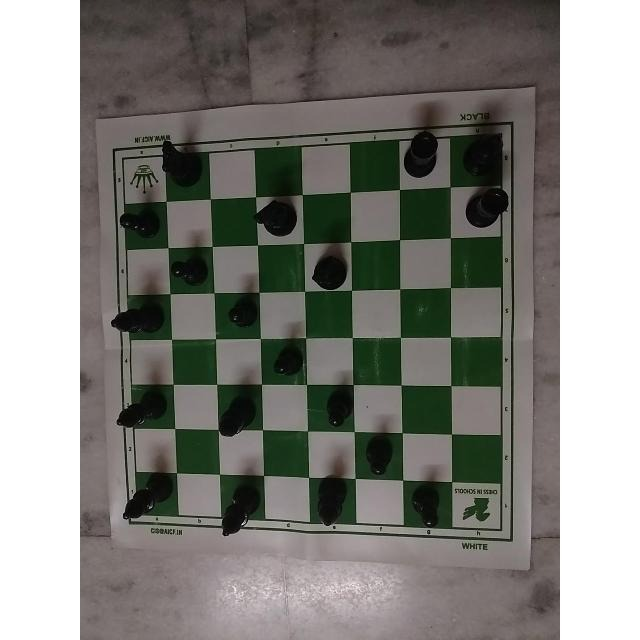black-bishop: (106, 381, 171, 441), (118, 470, 180, 531), (213, 482, 262, 548), (104, 298, 170, 342), (460, 126, 515, 178), (313, 472, 354, 540), (213, 390, 257, 444)
black-knight: (149, 136, 205, 188), (299, 242, 358, 289), (257, 194, 305, 244)
black-pawn: (404, 482, 461, 531), (354, 435, 397, 480), (267, 340, 307, 384), (316, 384, 352, 432), (168, 247, 207, 289), (114, 202, 158, 236), (220, 300, 257, 331)
black-rook: (395, 123, 449, 185), (465, 185, 511, 230)
